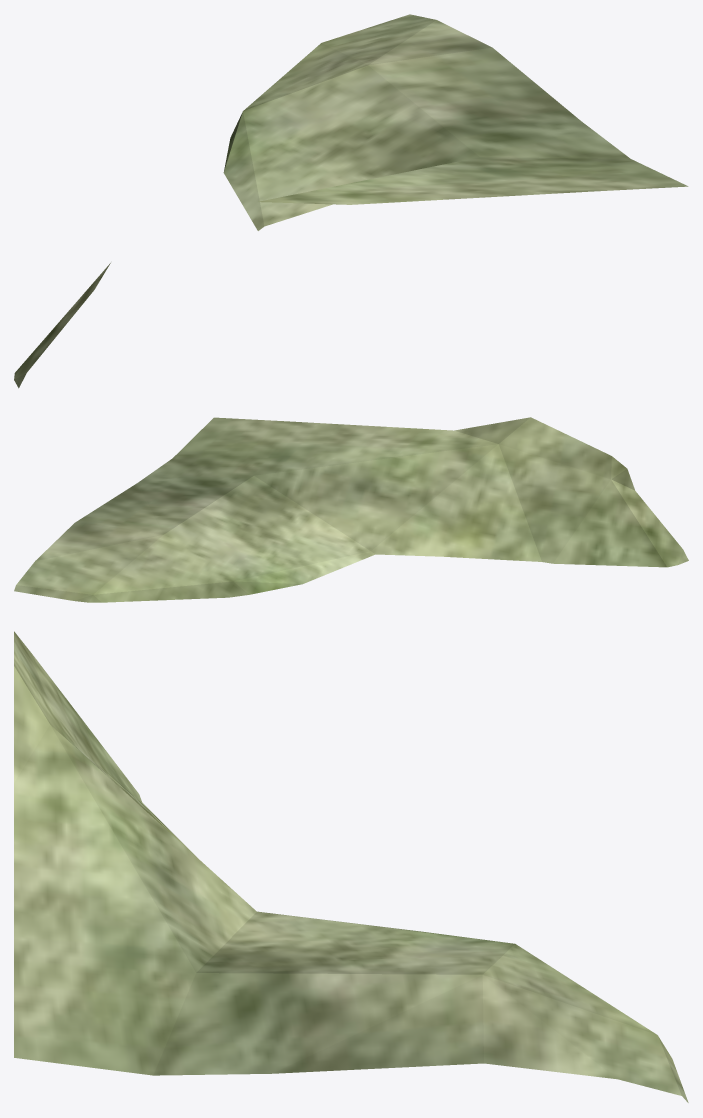
3 renders of one model, top to bottom at view 1: azimuth 30°, elevation 25°; view 2: azimuth 150°, elevation 25°; view 3: azimuth 270°, elevation 25°, orthographic. The views are drawn at different scales.
Size of the model in its own units: 1.94 by 0.4097 by 1.41.
Materials: 1 (1 with a texture image).
